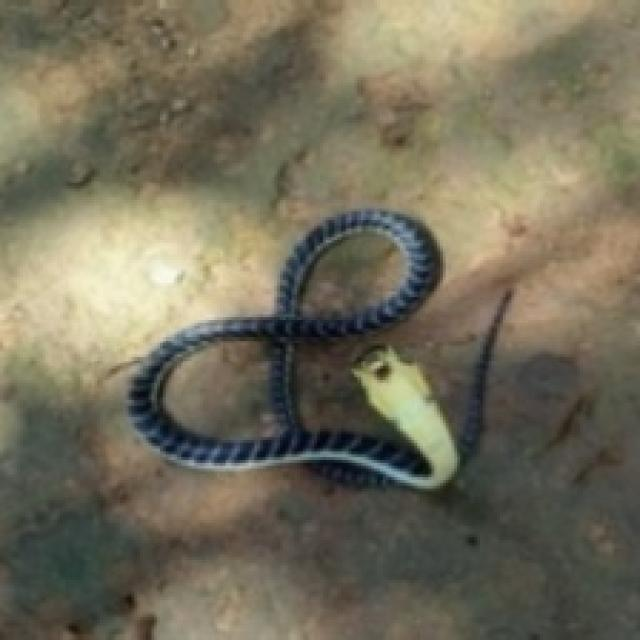king cobra: (129, 209, 509, 486), (163, 337, 274, 437), (297, 229, 406, 317)
